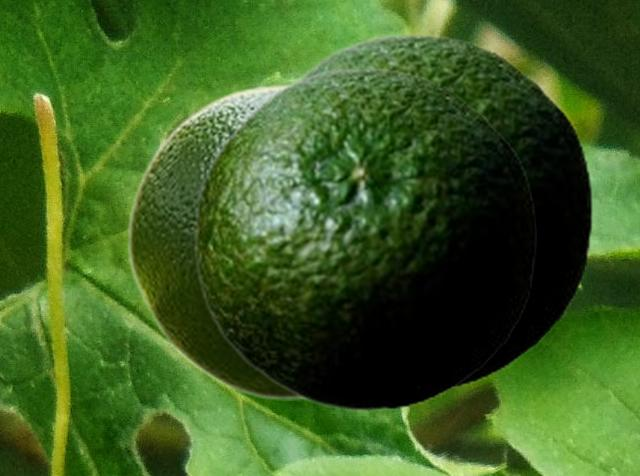calamansi: (193, 66, 535, 411), (288, 32, 592, 390), (126, 83, 301, 399)
